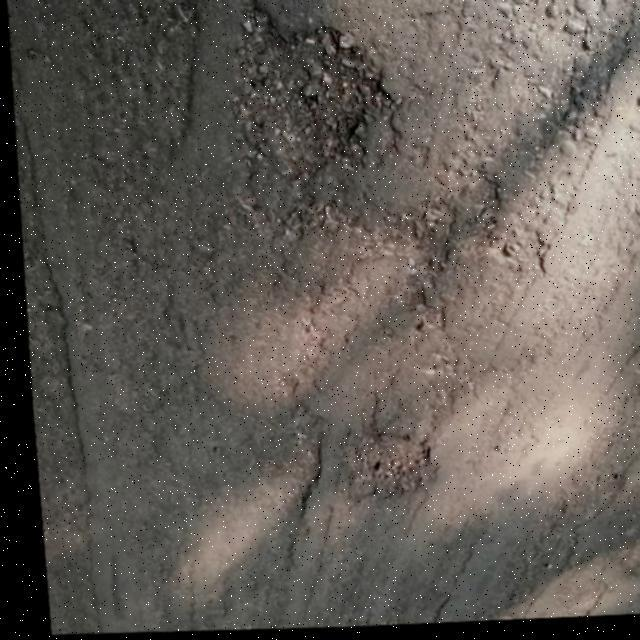pothole: (217, 0, 406, 205), (332, 424, 429, 508)
